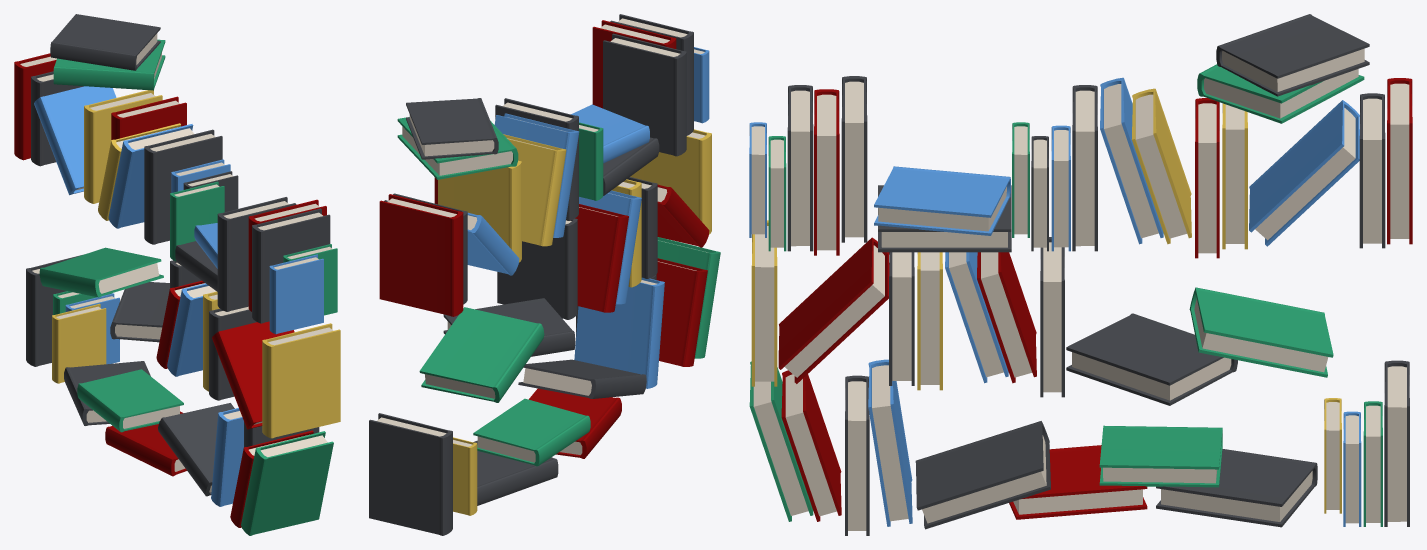
File: BookShelve1.fbx
The picture shows the model from 3 angles, left to right: view 1: azimuth 30°, elevation 25°; view 2: azimuth 150°, elevation 25°; view 3: azimuth 270°, elevation 25°; orthographic projection. The views are drawn at different scales.
Parts seen in each view (by area): view 1: polySurface50; view 2: polySurface50; view 3: polySurface50.
Part boxes in pixels (left/top/right/bottom): polySurface50: left=14, top=14, right=340, bottom=535; polySurface50: left=369, top=14, right=720, bottom=535; polySurface50: left=749, top=14, right=1412, bottom=535.
Bounding box in the file's own units: 0.759 × 2.16 × 2.78.
